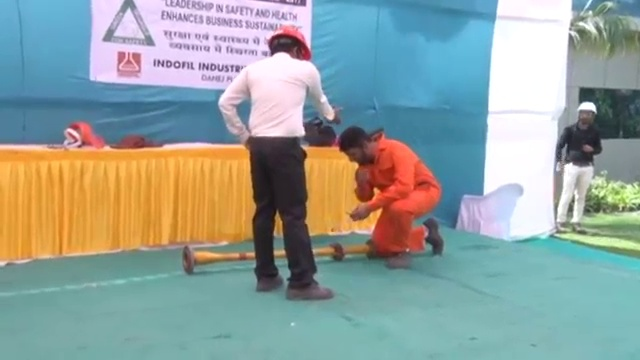helmet: (267, 25, 312, 59), (576, 100, 599, 116)
helmet_off: (337, 124, 378, 165)
helmet_on: (265, 25, 312, 67), (574, 99, 599, 129)
person: (216, 24, 344, 304), (335, 121, 445, 269), (556, 99, 602, 235)
